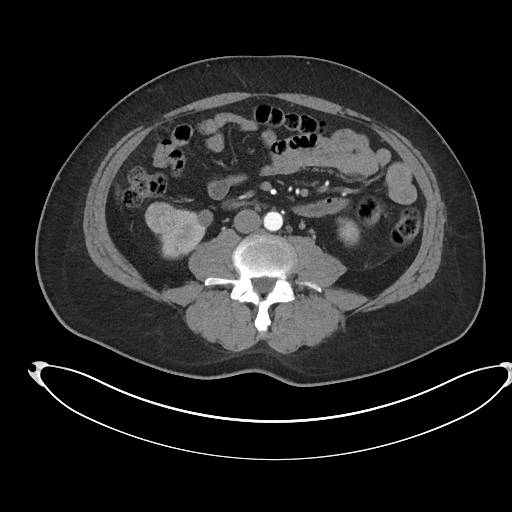Lesion: (143, 199, 177, 235)
